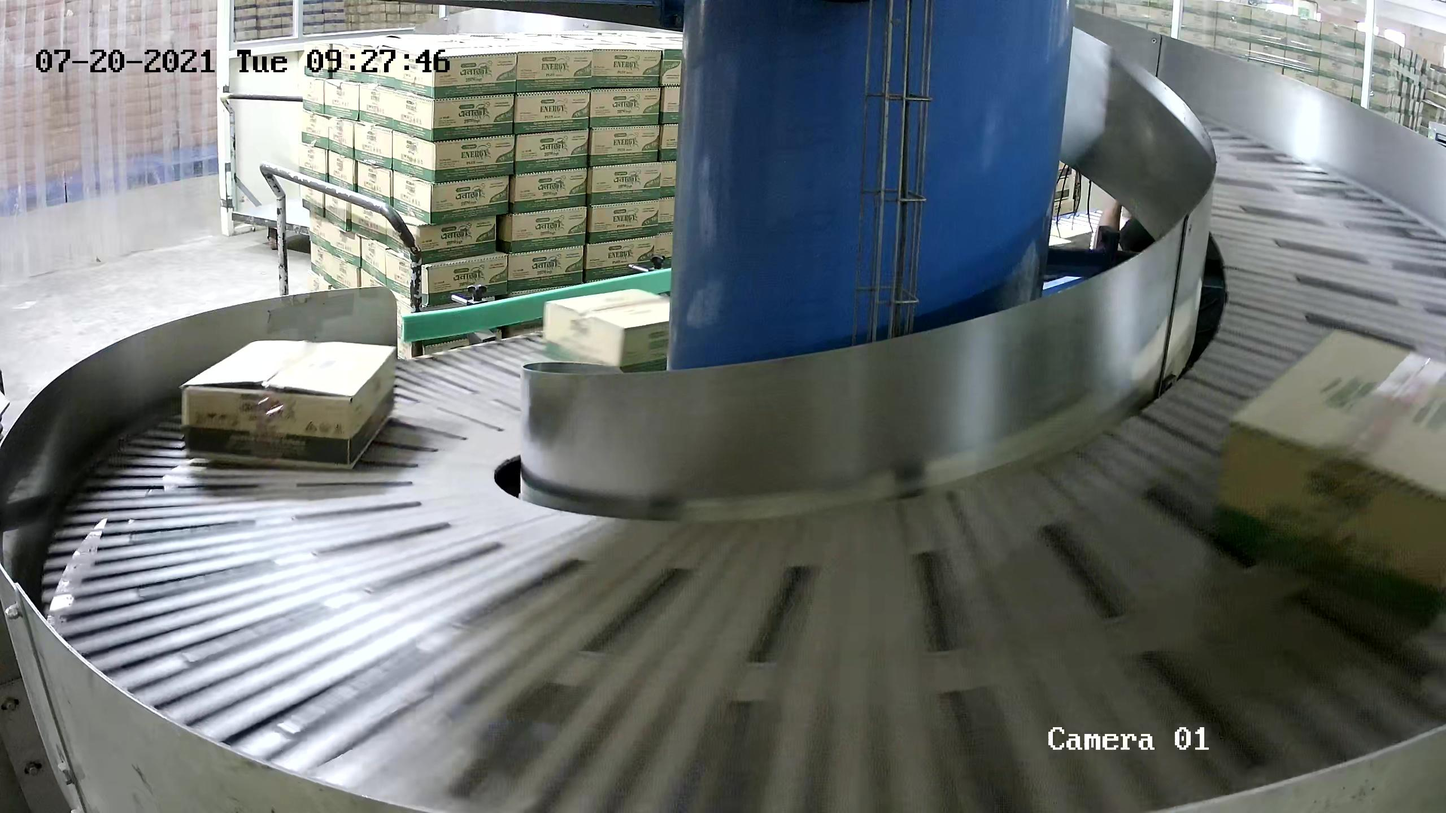Box: (1213, 324, 1446, 624), (178, 338, 397, 470), (542, 288, 671, 373)
